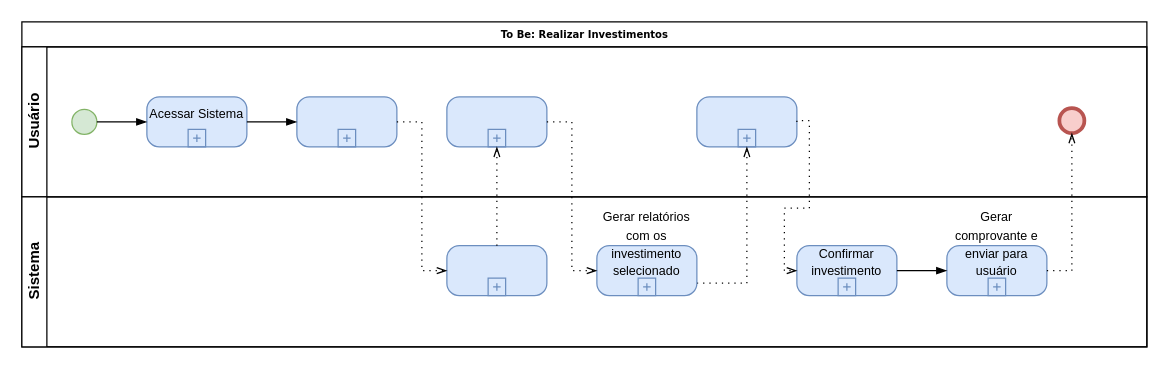
Image size: 1169x369. Some labels were removed from this diagram. Each missing label, with the centre of its shape:
"Escolher características do investimento" belongs at point (746, 121).
"Escolher tipo de investimento" belongs at point (496, 121).
"Exibe tipos de investimento" belongs at point (496, 270).
"Seleciona Opção de Investimento" belongs at point (346, 121).
